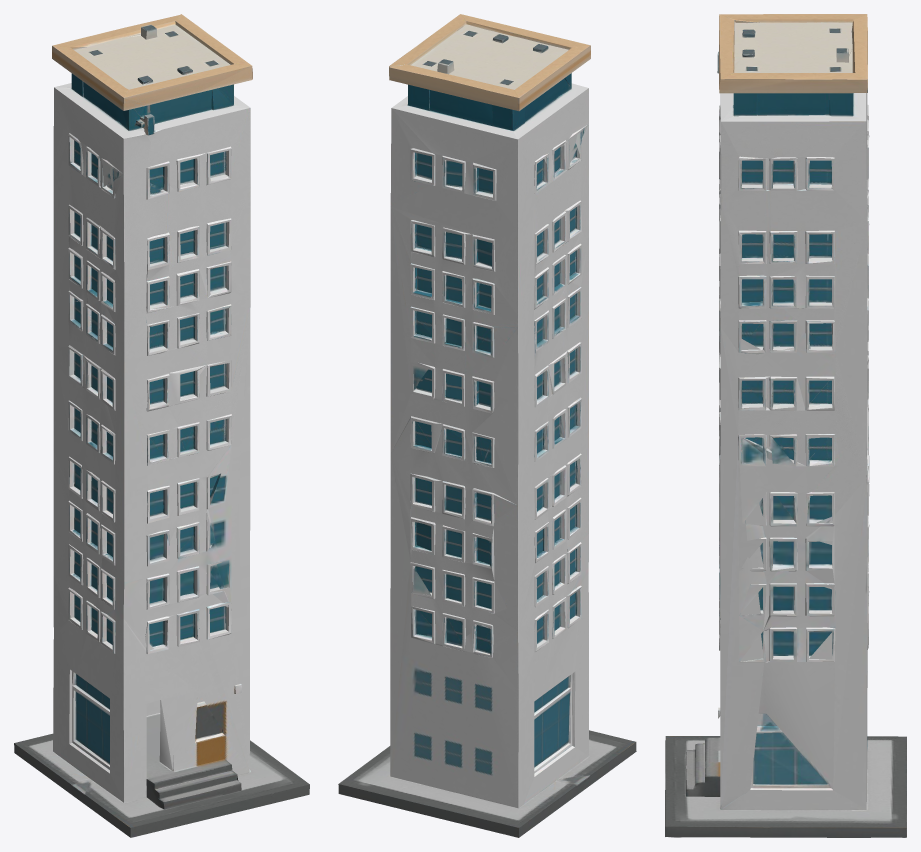
Rendered from building-tower.glb.
The picture shows the model from 3 angles, left to right: view 1: azimuth 30°, elevation 25°; view 2: azimuth 150°, elevation 25°; view 3: azimuth 270°, elevation 25°; orthographic projection. The views are drawn at different scales.
Size of the model in its own units: 0.4993 by 1.92 by 0.5611.
1 material, 1 textured.
